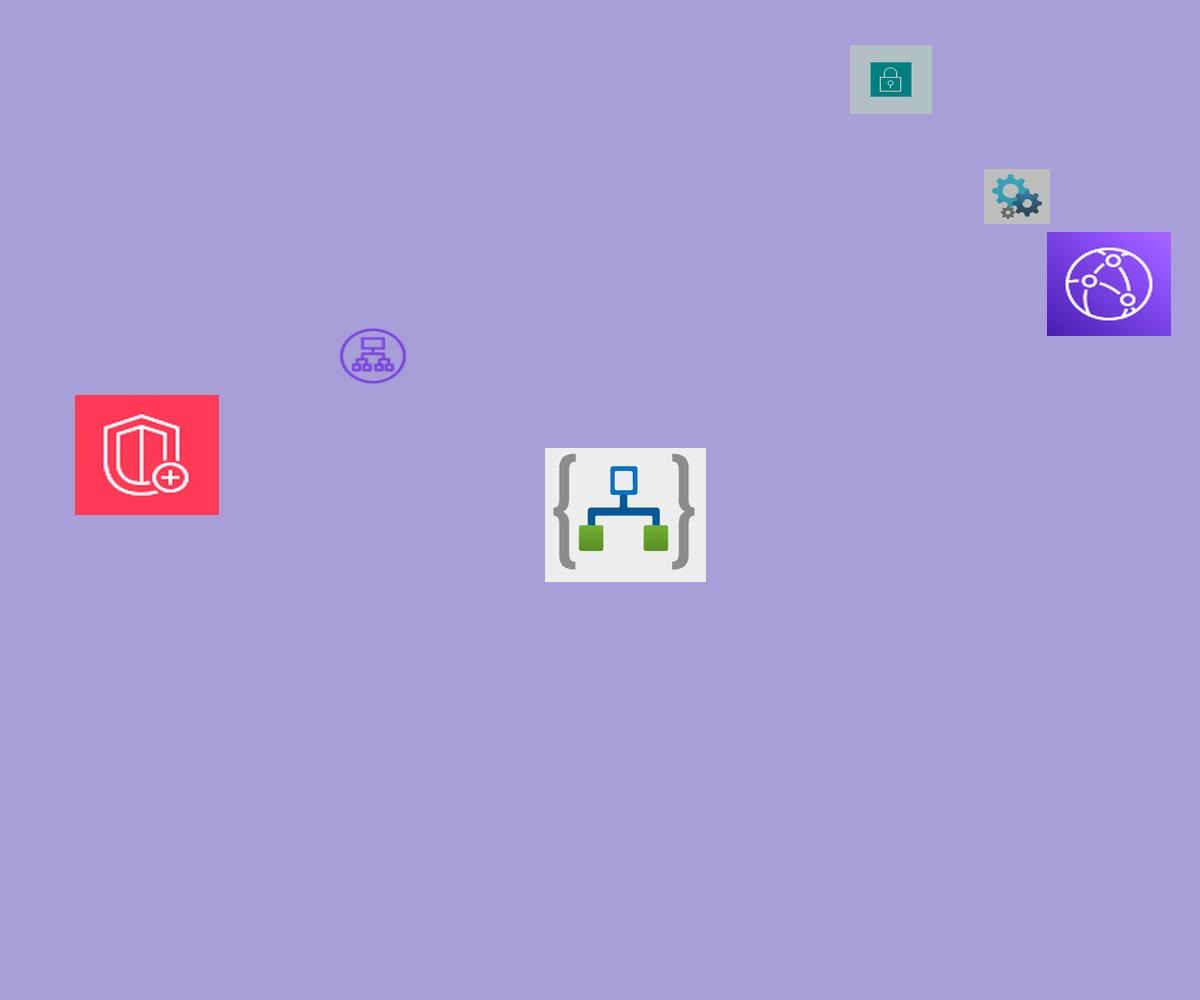AWS-CloudFront: (1047, 232, 1171, 336)
AWS-Private-subnet: (850, 45, 932, 114)
AWS-Res_Elastic-Load-Balancing_Application-Load-Balancer: (337, 326, 409, 386)
AWS-Shield: (75, 395, 219, 515)
Azure_api: (984, 169, 1050, 224)
Azure_integration-204-Logic-Apps: (545, 448, 706, 582)
